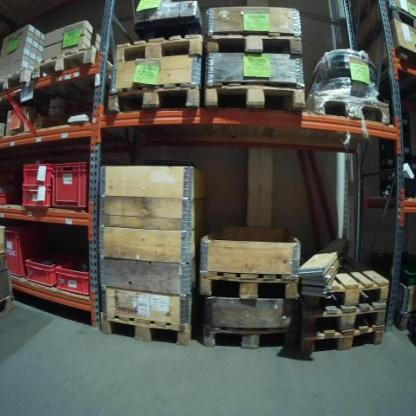pallet: (300, 250, 392, 314), (100, 312, 194, 347), (199, 269, 300, 299), (203, 84, 307, 111), (107, 83, 200, 113), (310, 91, 392, 125), (298, 325, 385, 357), (302, 309, 387, 340), (116, 33, 203, 63), (205, 33, 303, 58), (32, 45, 98, 80), (203, 325, 297, 349), (388, 5, 416, 29), (1, 296, 15, 316)
small_load_carrier: (3, 227, 50, 281), (52, 161, 90, 207), (58, 257, 93, 293), (27, 256, 58, 289), (20, 185, 55, 211), (20, 160, 51, 184)
